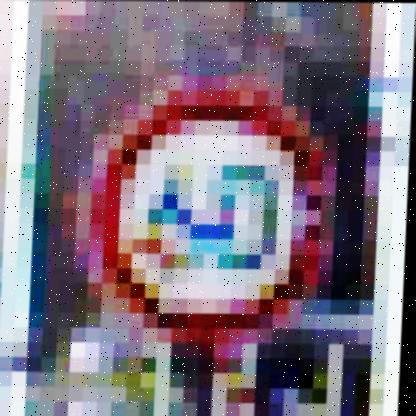Speed Limit -60-: (76, 76, 342, 349)
